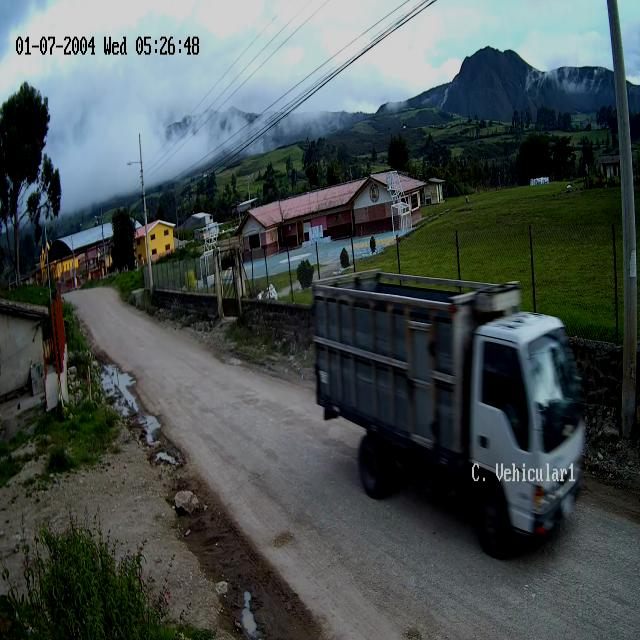TRUCK: (314, 276, 587, 560)
